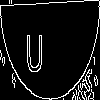U: (25, 25, 44, 73)
